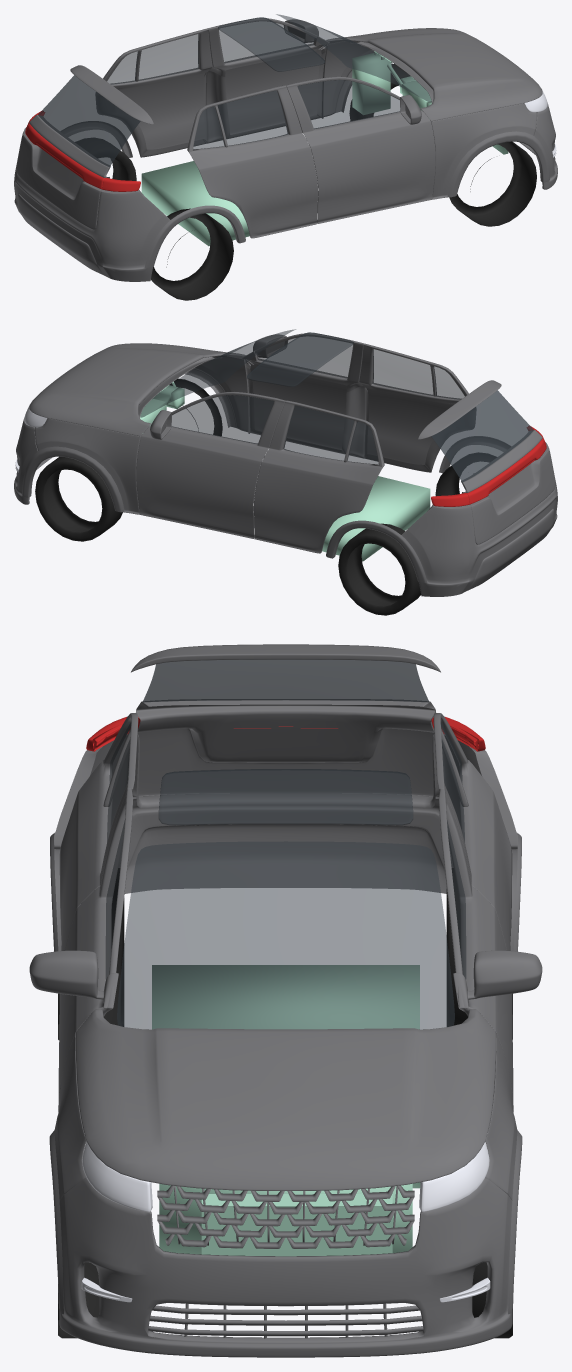
Rendered from suv.glb.
The picture shows the model from 3 angles, top to bottom: view 1: azimuth 30°, elevation 25°; view 2: azimuth 150°, elevation 25°; view 3: azimuth 270°, elevation 25°; orthographic projection. The views are drawn at different scales.
Visible parts, largest first — view 1: door-front-right.001, door-rear-right.001, hood.001, door-front-left.001, bumper-rear.001, door-rear-left.001, trunk.001, glass-rear.001, fender-front-right.001, zone_fuel, glass-door-front-right.001, glass-sunroof.001 (+23 smaller); view 2: door-front-left.001, door-rear-left.001, hood.001, door-front-right.001, bumper-rear.001, door-rear-right.001, trunk.001, glass-rear.001, fender-front-left.001, tyre_rl_tyre, tyre_fl_tyre, zone_fuel (+22 smaller); view 3: hood.001, glass-windshield.001, bumper-front.001, bumper-rear.001, trunk.001, zone_fuel, glass-sunroof.001, glass-rear.001, front-grille.001, door-rear-left.001, door-rear-right.001, door-front-left.001 (+19 smaller).
Part boxes in pixels (box(x1,y1,x2,y2)): door-front-right.001: box(286, 76, 435, 223); door-rear-right.001: box(187, 85, 318, 238); hood.001: box(326, 28, 542, 121); door-front-left.001: box(206, 18, 329, 143); bumper-rear.001: box(14, 127, 170, 281); door-rear-left.001: box(95, 28, 212, 157); trunk.001: box(16, 115, 110, 229); glass-rear.001: box(38, 75, 140, 166); fender-front-right.001: box(431, 103, 537, 199); zone_fuel: box(141, 161, 249, 246); glass-door-front-right.001: box(298, 80, 400, 128); glass-sunroof.001: box(218, 17, 324, 71); door-front-left.001: box(136, 391, 285, 539); door-rear-left.001: box(253, 400, 384, 553); hood.001: box(29, 343, 245, 436); door-front-right.001: box(242, 333, 365, 458); bumper-rear.001: box(401, 442, 557, 596); door-rear-right.001: box(359, 343, 476, 472); trunk.001: box(461, 430, 555, 544); glass-rear.001: box(431, 390, 533, 482); fender-front-left.001: box(34, 418, 140, 514); tyre_rl_tyre: box(338, 523, 421, 615); tyre_fl_tyre: box(35, 457, 122, 541); zone_fuel: box(322, 476, 430, 561); hood.001: box(75, 1009, 496, 1190); glass-windshield.001: box(117, 841, 454, 1029); bumper-front.001: box(59, 1178, 512, 1357); bumper-rear.001: box(54, 734, 517, 893); trunk.001: box(126, 699, 445, 798); zone_fuel: box(152, 965, 419, 1029); glass-sunroof.001: box(158, 769, 413, 825); glass-rear.001: box(142, 659, 429, 702); front-grille.001: box(157, 1185, 414, 1248); door-rear-left.001: box(433, 713, 512, 950); door-rear-right.001: box(59, 713, 138, 950); door-front-left.001: box(438, 788, 513, 1112).
Bounding box in the file's own units: 4.19 × 1.55 × 1.95.
